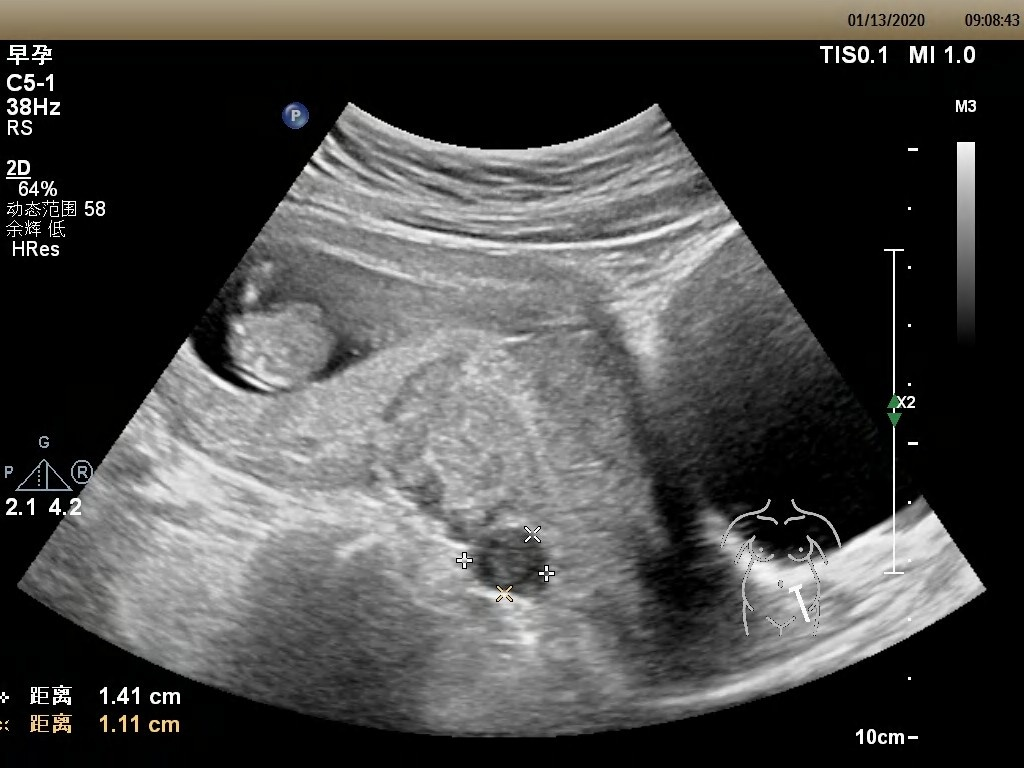肌瘤: (477, 531, 546, 592)
